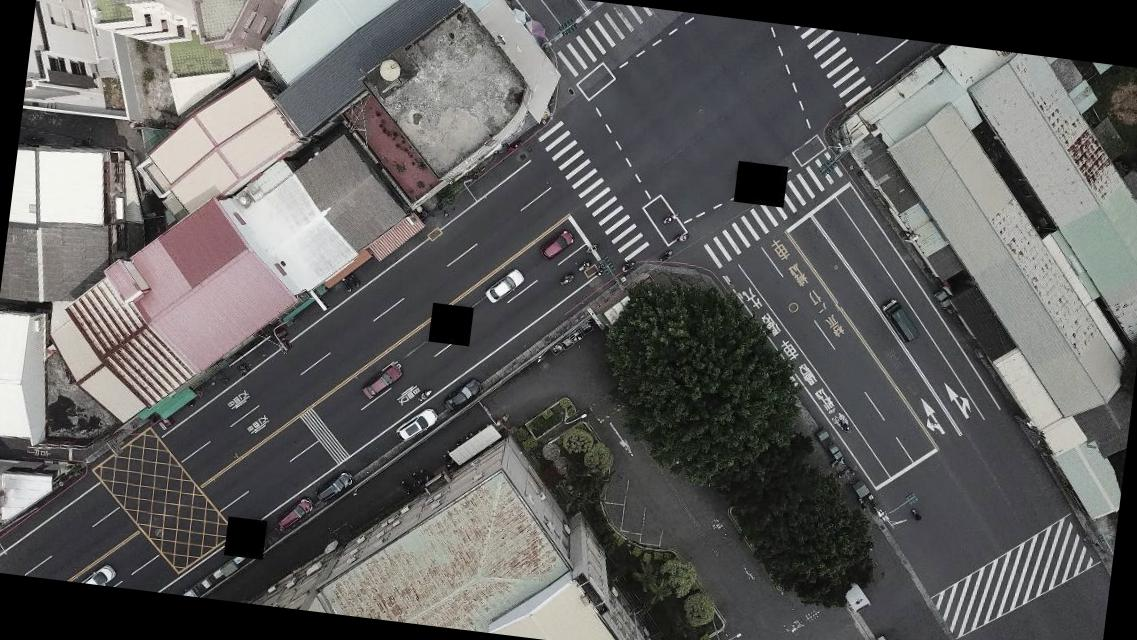vehicle: (876, 297, 925, 344), (358, 358, 404, 404), (270, 491, 316, 536), (482, 263, 526, 307), (394, 403, 439, 445), (439, 376, 481, 416), (314, 466, 354, 506), (537, 226, 574, 262), (82, 560, 116, 586)
